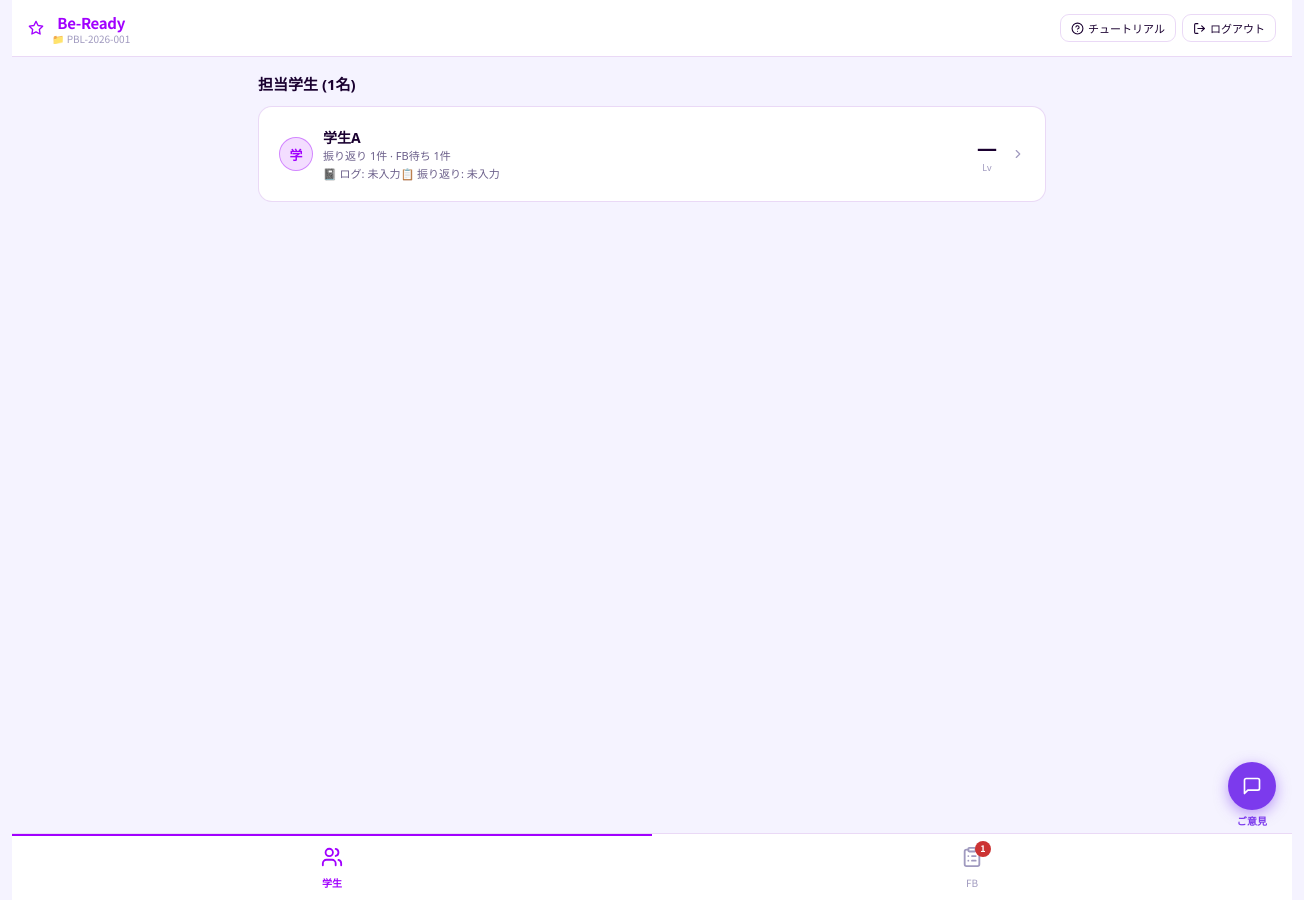
Test: App - メンター: FB タブ › FB タブをクリックすると採点画面に遷移する
This screenshot has width=1304, height=900.
Expected: the text "Be-Ready" is shown, x1=57 y1=12 x2=125 y2=33
Click the text "FB" at (972,882), box x1=966 y1=875 x2=978 y2=890
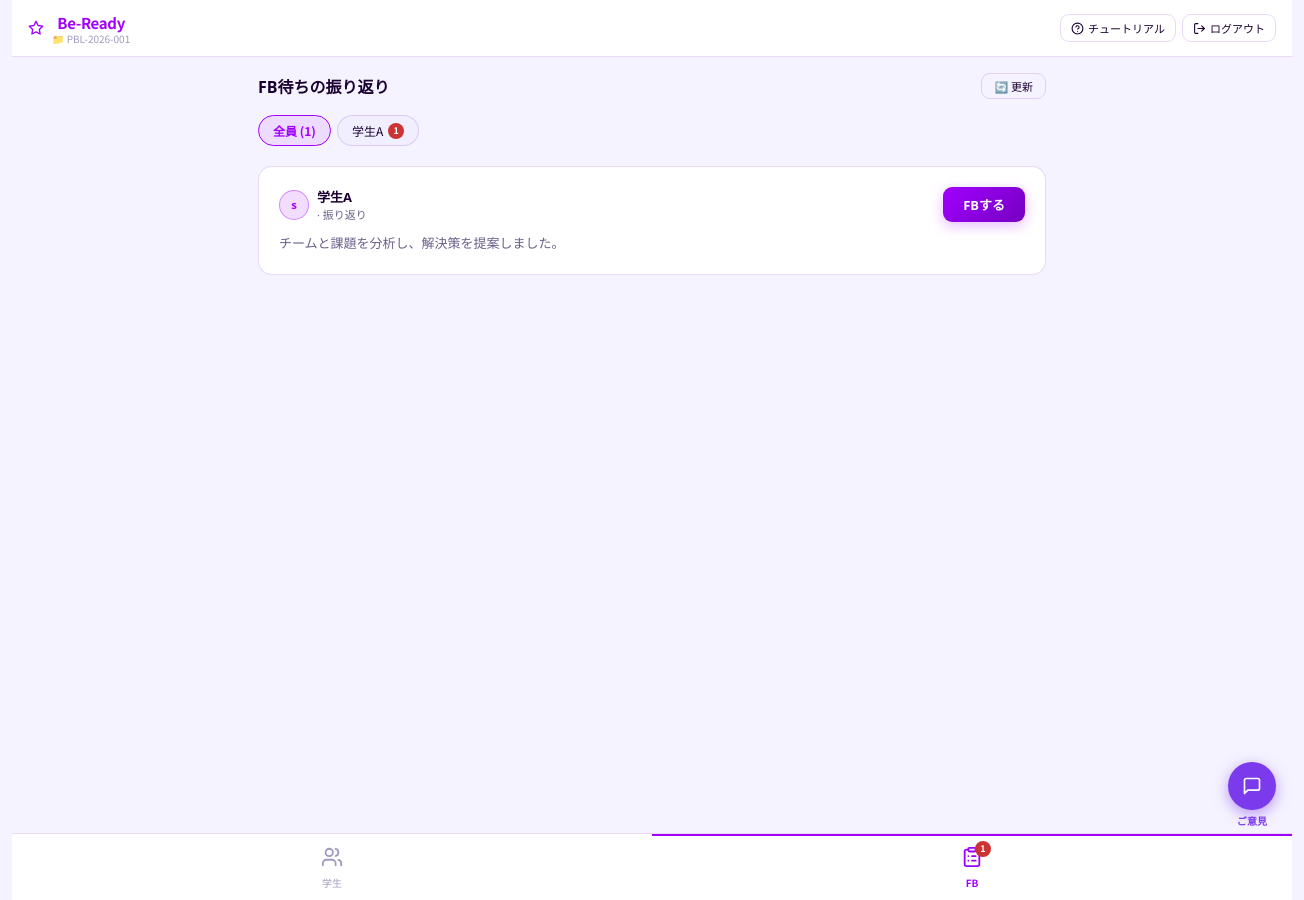
Expected: the heading "FB待ちの振り返り" is shown, x1=258 y1=74 x2=390 y2=98
